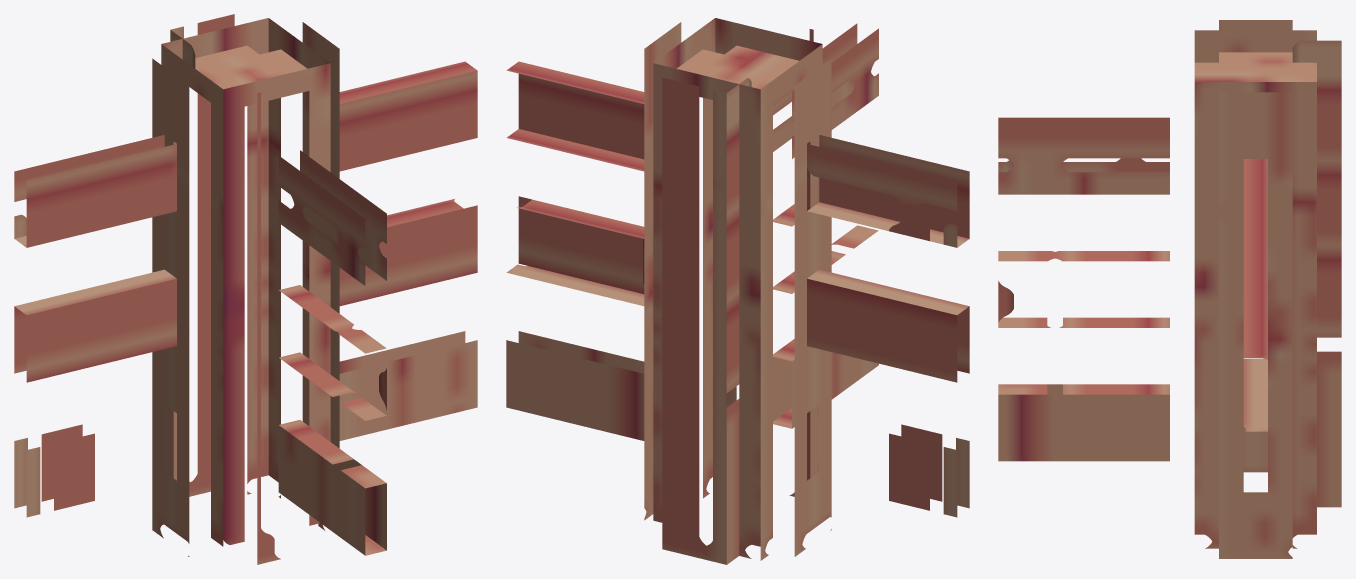
Rendered from Fence_TShape.obj.
3 renders of one model, left to right at view 1: azimuth 30°, elevation 25°; view 2: azimuth 150°, elevation 25°; view 3: azimuth 270°, elevation 25°, orthographic.
Parts seen in each view (by area): view 1: Cube.1309; view 2: Cube.1309; view 3: Cube.1309.
Boxes of the visible parts, x1,y1,x2,y2 form: Cube.1309: (14, 14, 477, 564); Cube.1309: (506, 18, 969, 564); Cube.1309: (998, 20, 1341, 558).
Bounding box in the file's own units: 2.1 × 2.1 × 1.4.
